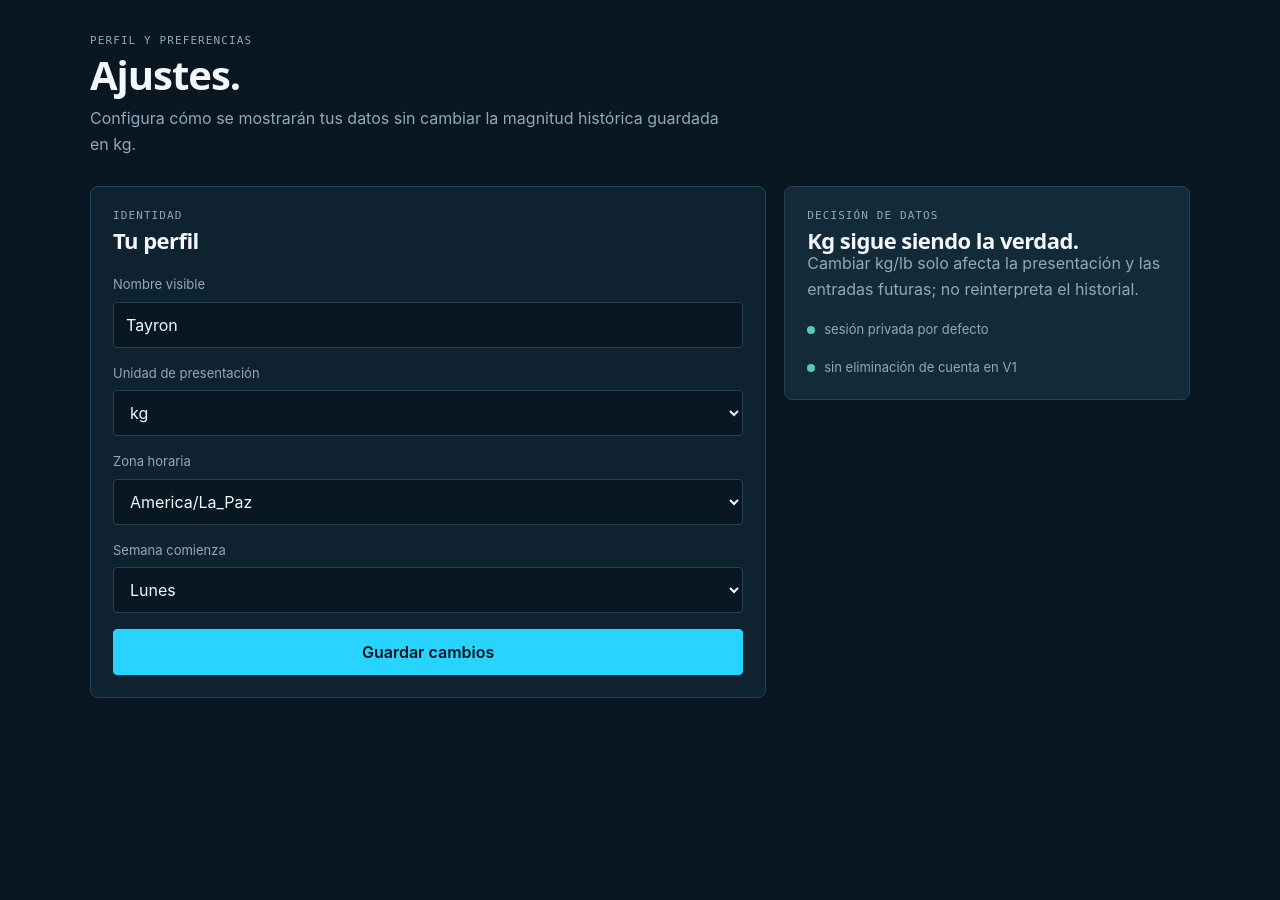
Scenario: perfil simulado › actualiza preferencias sin ofrecer eliminación de cuenta
The image size is (1280, 900).
Replace the text in the field labelled "Nombre visible" with "Tayron nuevo" at x=428, y=325, box [113, 302, 743, 348]
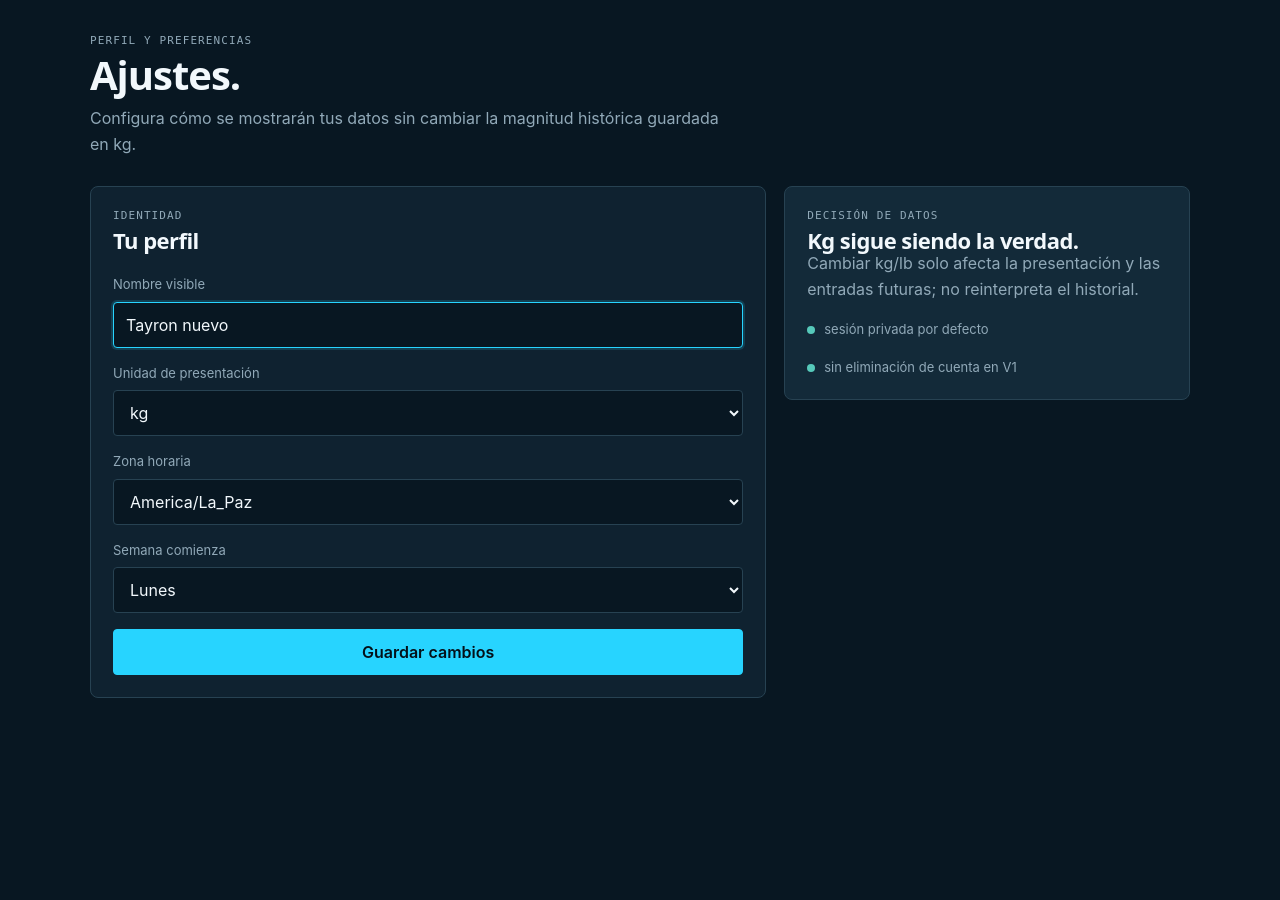
Select "lb" in the dropdown labelled "Unidad de presentación" at x=428, y=413, box [113, 390, 743, 436]
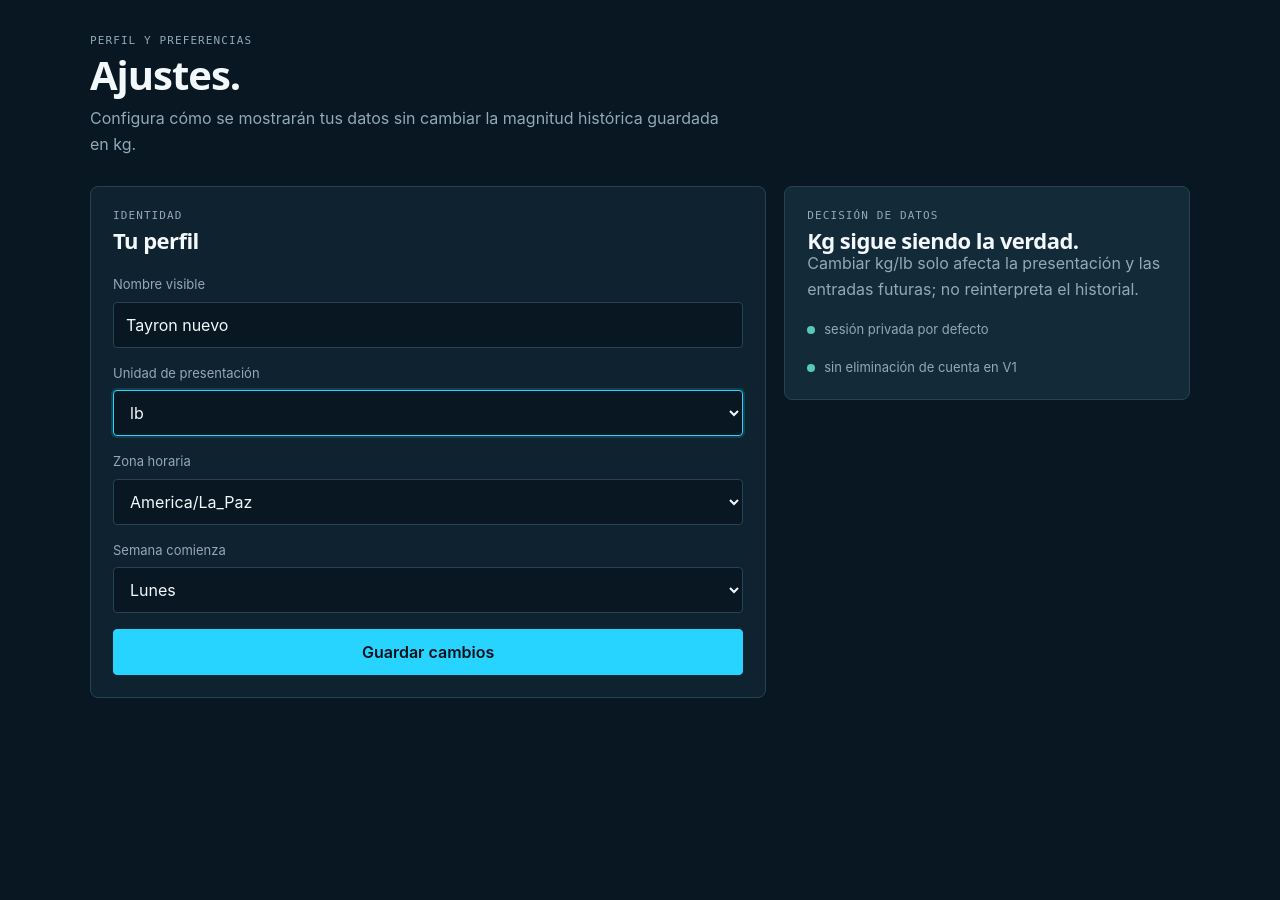
Click the button "Guardar cambios" at x=428, y=652, box [113, 629, 743, 675]
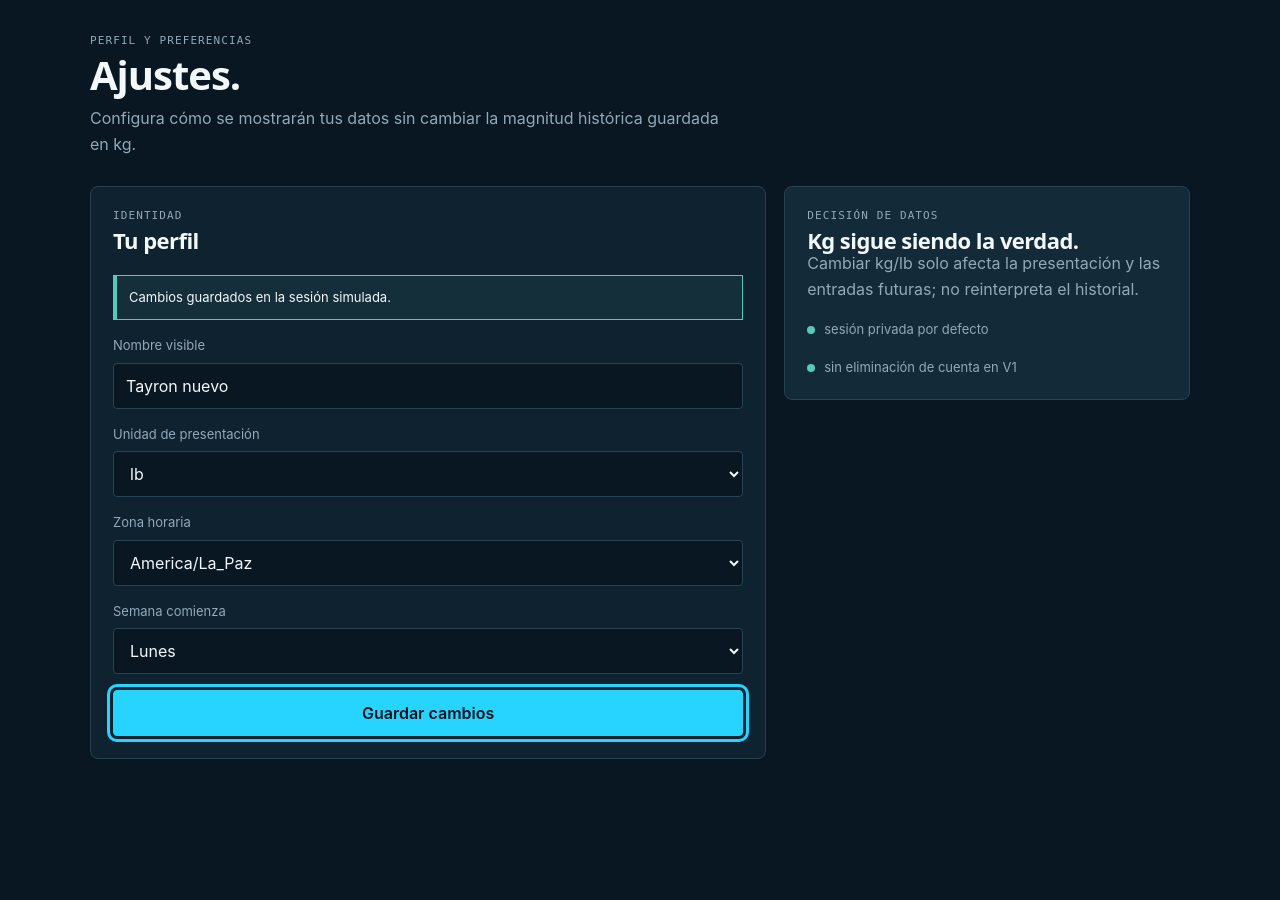
Check: the text "Cambios guardados en la sesión simulada." is shown, box [113, 275, 743, 320]
